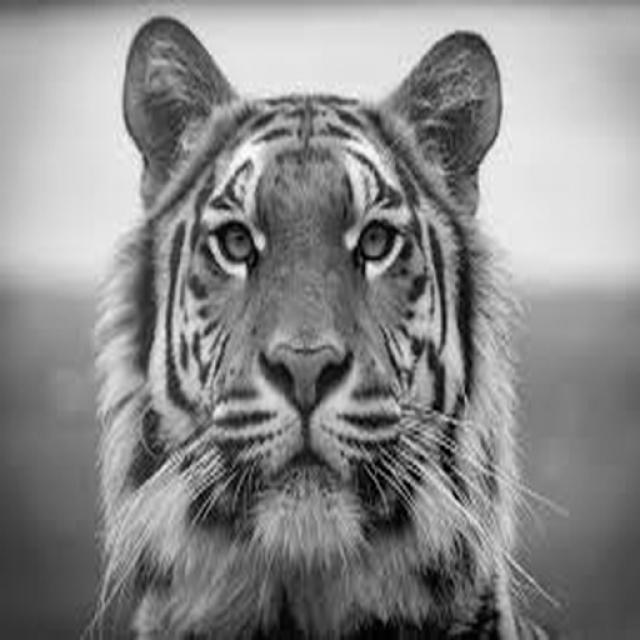Tiger: (74, 11, 586, 639)
